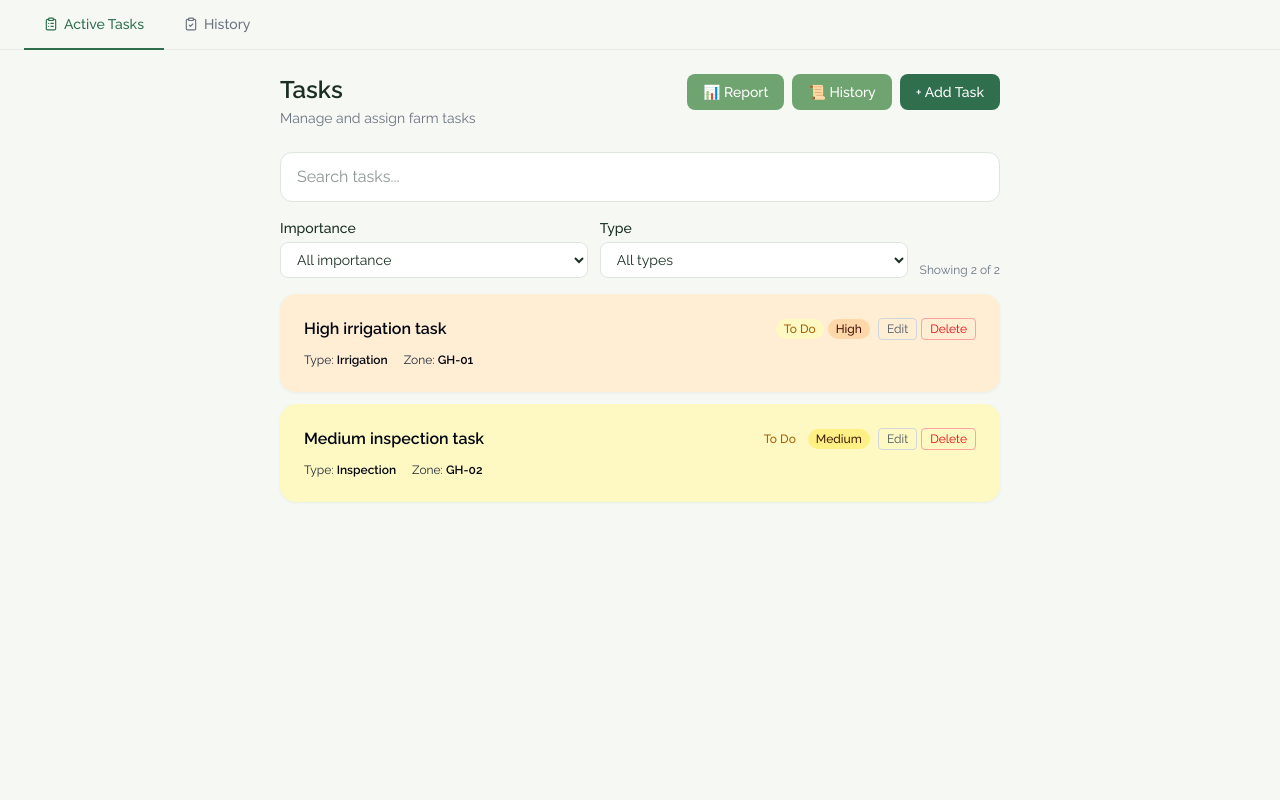
Test: manager task delete (US42) › leaves the task unchanged when the dialog is cancelled
Expected: the heading "High irrigation task" is shown, [304,318,446,340]
Click the button "Delete" in the row of "High irrigation task". click: [949, 329]
box: [921,318,976,340]
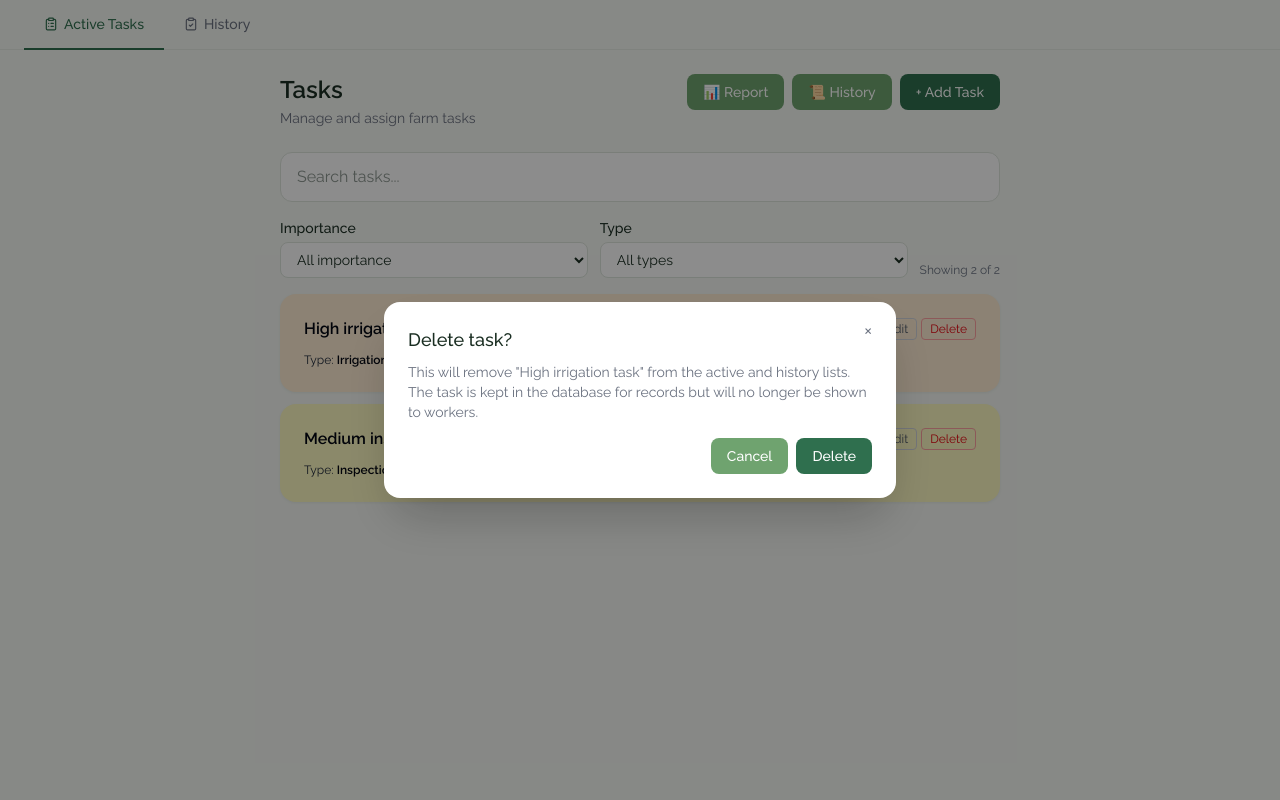
Click the button "Cancel". click: [750, 456]
box: [711,438,788,474]
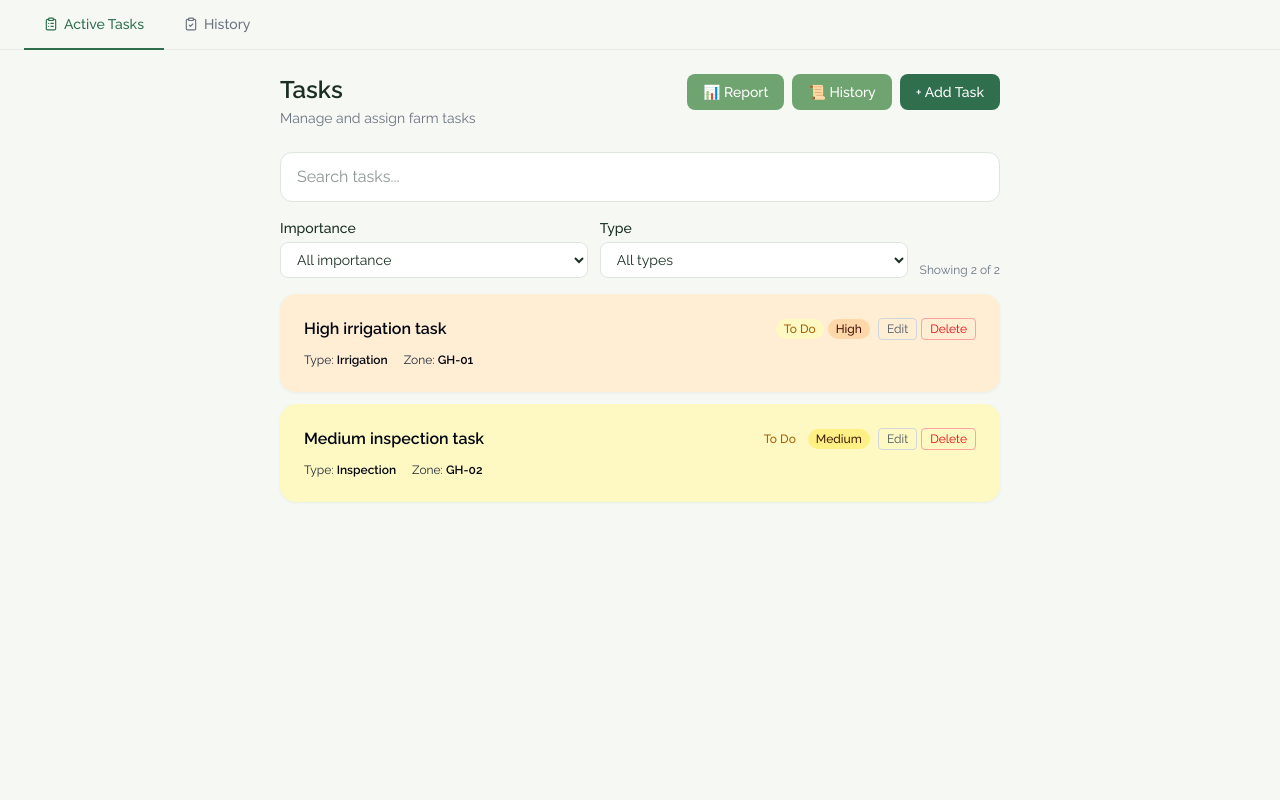
Expected: the heading "High irrigation task" is shown, [304,318,446,340]
Now the heading "Delete task?" is gone
